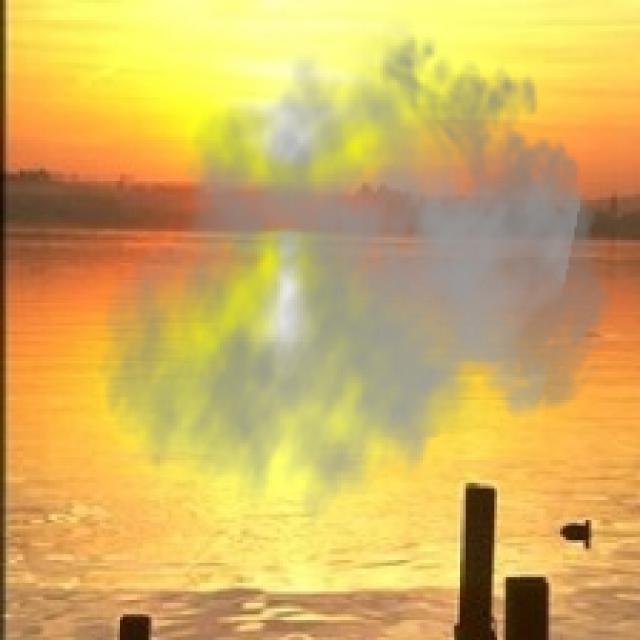Smoke: (97, 14, 620, 549)
